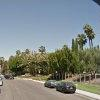Car: (43, 76, 76, 95)
